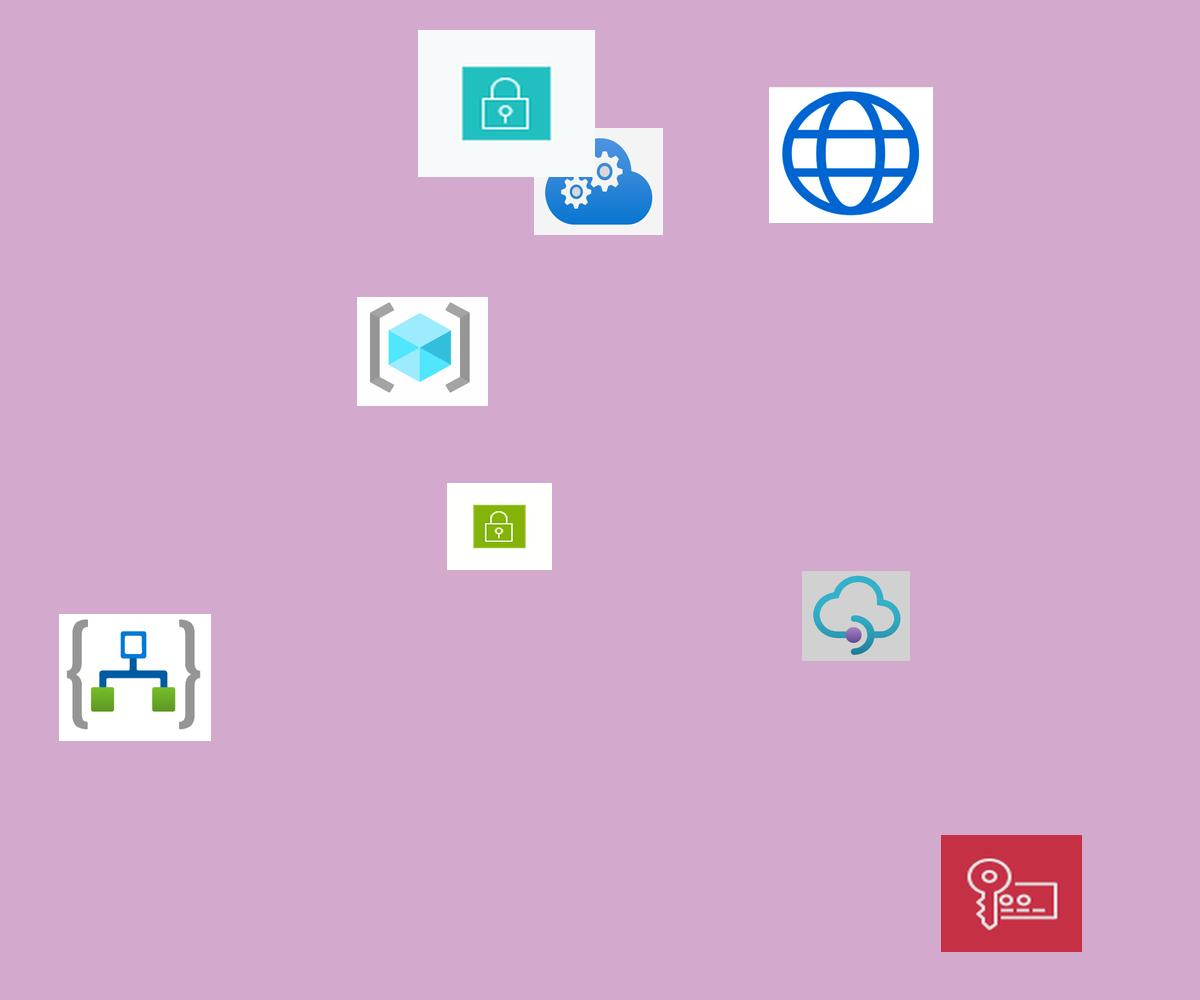AWS-Key-Management-Service: (941, 835, 1082, 952)
AWS-Private-subnet: (418, 30, 595, 177)
AWS-Public-subnet: (447, 483, 552, 570)
Azure_api_gateway: (802, 571, 910, 661)
Azure_cloud_services: (534, 128, 663, 235)
Azure_http: (769, 87, 933, 223)
Azure_integration-204-Logic-Apps: (59, 614, 211, 741)
Azure_resource_group: (357, 297, 488, 406)
